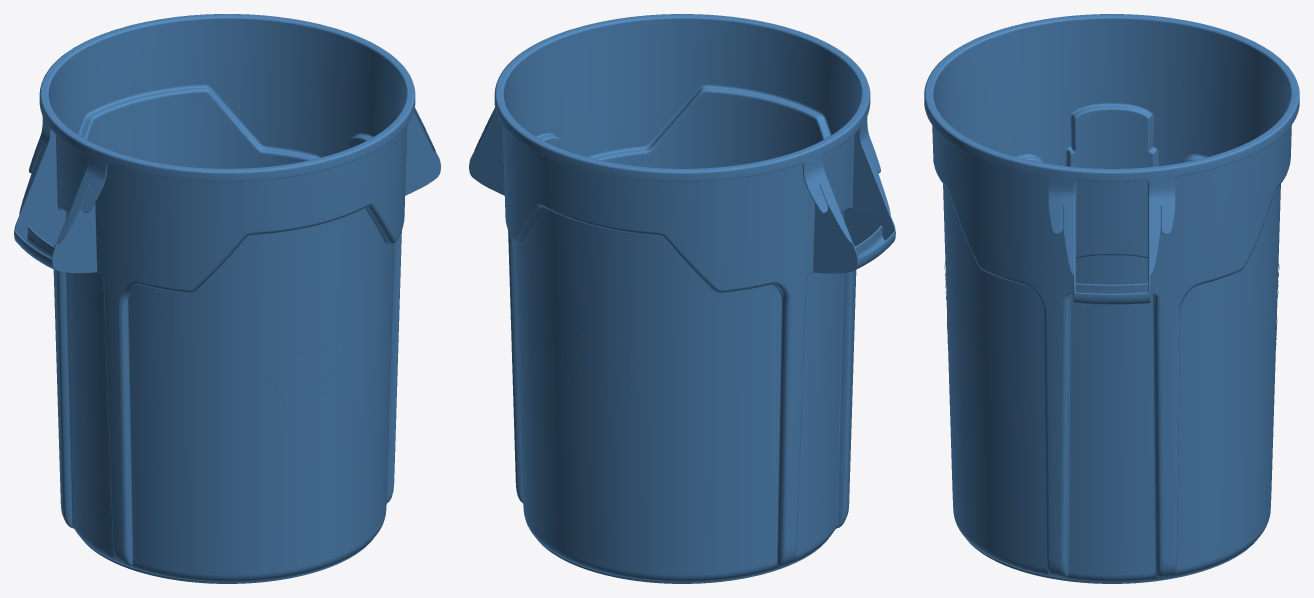
The model's file is container_recycle_blue_b03.glb.
3 renders of one model, left to right at view 1: azimuth 30°, elevation 25°; view 2: azimuth 150°, elevation 25°; view 3: azimuth 270°, elevation 25°, orthographic.
Bounding box in the file's own units: 0.7566 × 0.7812 × 0.6231.
